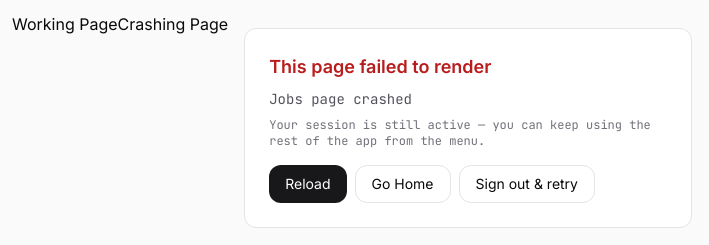
Wrap Routes in Error Boundary (P1 #7) › keeps navigation functional and allows navigating away when a route throws
Expected: the heading "This page failed to render" is shown, [269,56,491,77]
Expected: the text "Jobs page crashed" is shown, [269,90,412,108]
# Click the working link to navigate
Step 1. Click the link with test id "nav-working" → (65,24), box [12,14,118,34]
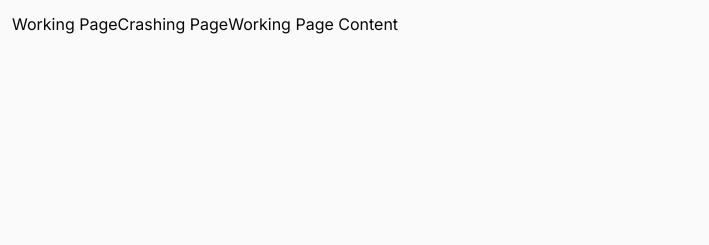
Expected: the heading "This page failed to render" is gone
Expected: the text "Working Page Content" is shown, [228,12,398,36]
